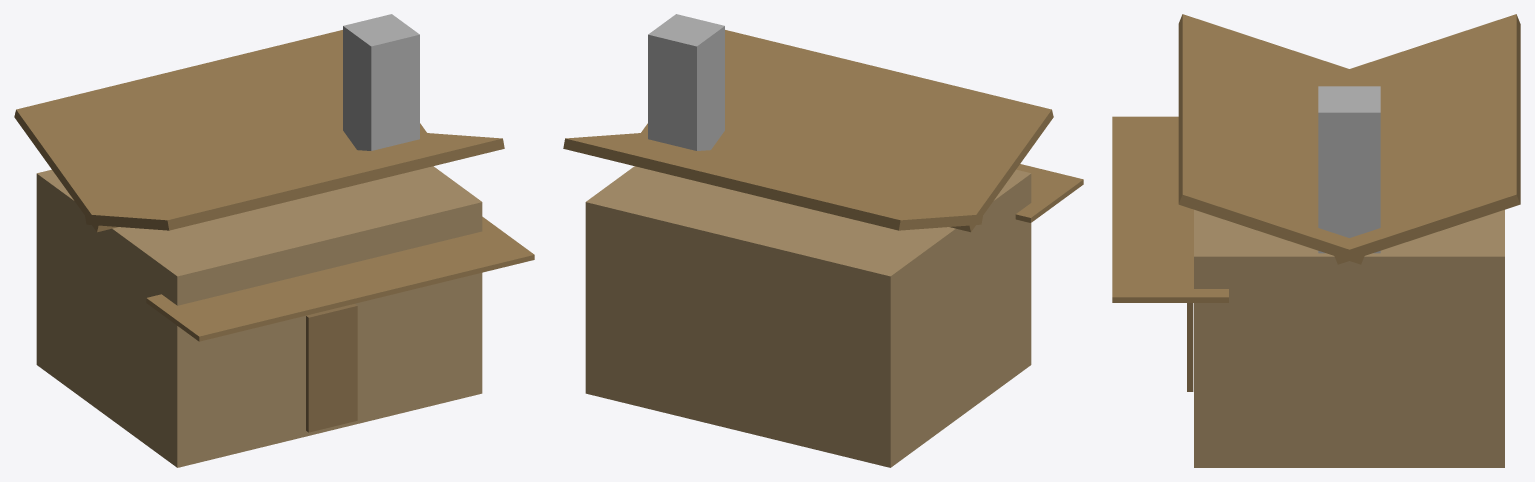
File: env-ww-cabin.glb
The picture shows the model from 3 angles, left to right: view 1: azimuth 30°, elevation 25°; view 2: azimuth 150°, elevation 25°; view 3: azimuth 270°, elevation 25°; orthographic projection. The views are drawn at different scales.
Size of the model in its own units: 5.5 by 5 by 5.25.
